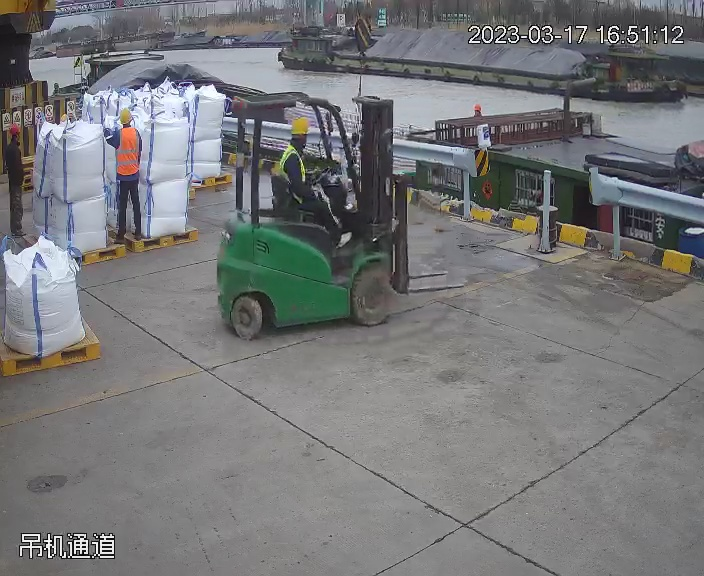head: (279, 115, 315, 169), (112, 105, 142, 153), (6, 123, 25, 165)
helmet: (289, 115, 311, 135), (118, 106, 133, 125), (6, 121, 21, 137), (474, 104, 483, 113)
people: (275, 114, 356, 247), (102, 106, 149, 243), (4, 119, 29, 242)
